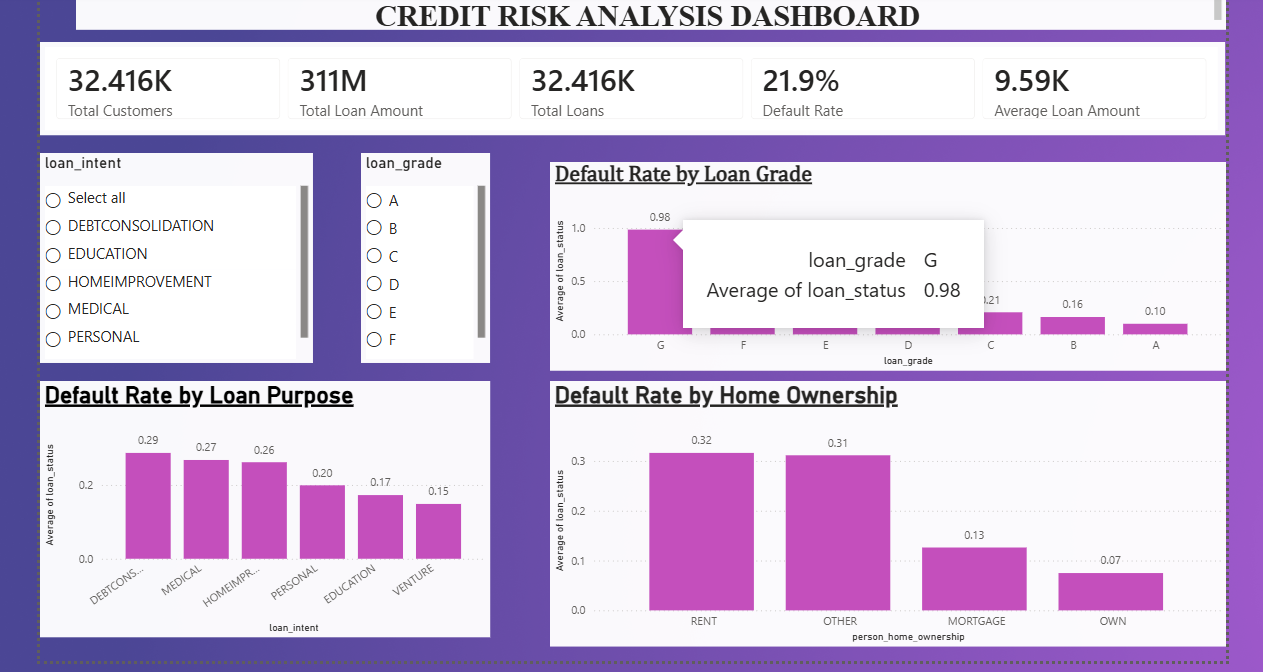

The dashboard page shown, as its layout file describes it:
{"tool":"powerbi","page":{"name":"Executive Summary","canvas":[1280,720],"ordinal":0},"visuals":[{"type":"cardVisual","fields":{"Data":["CountNonNull(credit_risk credit_risk_clean.customer_id)","Sum(credit_risk credit_risk_clean.loan_amnt)","CountNonNull(credit_risk credit_risk_clean.loan_status)","credit_risk credit_risk_clean.Defaulted Rate","Avg(credit_risk credit_risk_clean.loan_amnt)"]},"box":[0,51.8,1279.2,100.4],"z":0},{"type":"clusteredColumnChart","title":"Default Rate by Loan Grade","fields":{"Category":["credit_risk credit_risk_clean.loan_grade"],"Y":["Avg(credit_risk credit_risk_clean.loan_status)"]},"box":[550.5,181.4,730.3,225.1],"z":1000},{"type":"clusteredColumnChart","title":"Default Rate by Loan Purpose","fields":{"Category":["credit_risk credit_risk_clean.loan_intent"],"Y":["Avg(credit_risk credit_risk_clean.loan_status)"]},"box":[0,417.8,485.8,276.9],"z":2000},{"type":"clusteredColumnChart","title":"Default Rate by Home Ownership","fields":{"Category":["credit_risk credit_risk_clean.person_home_ownership"],"Y":["Avg(credit_risk credit_risk_clean.loan_status)"]},"box":[550.5,417.8,730.3,286.6],"z":3000},{"type":"textbox","box":[38.9,0,1241.9,38.9],"z":4000},{"type":"listSlicer","fields":{"Values":["credit_risk credit_risk_clean.loan_grade"]},"box":[346.5,171.6,139.3,226.7],"z":5000},{"type":"listSlicer","fields":{"Values":["credit_risk credit_risk_clean.loan_intent"]},"box":[0,171.6,294.7,226.7],"z":6000}]}

Visuals, with their boxes in screenshot pixels (x1, y1, x2, y2):
cardVisual - CountNonNull(credit_risk credit_risk_clean.customer_id) x Sum(credit_risk credit_risk_clean.loan_amnt): (36,38,1212,130)
"Default Rate by Loan Grade" clusteredColumnChart: (542,157,1213,364)
"Default Rate by Loan Purpose" clusteredColumnChart: (36,374,483,629)
"Default Rate by Home Ownership" clusteredColumnChart: (542,374,1213,637)
textbox: (72,0,1213,26)
listSlicer - credit_risk credit_risk_clean.loan_grade: (355,148,483,356)
listSlicer - credit_risk credit_risk_clean.loan_intent: (36,148,307,356)
